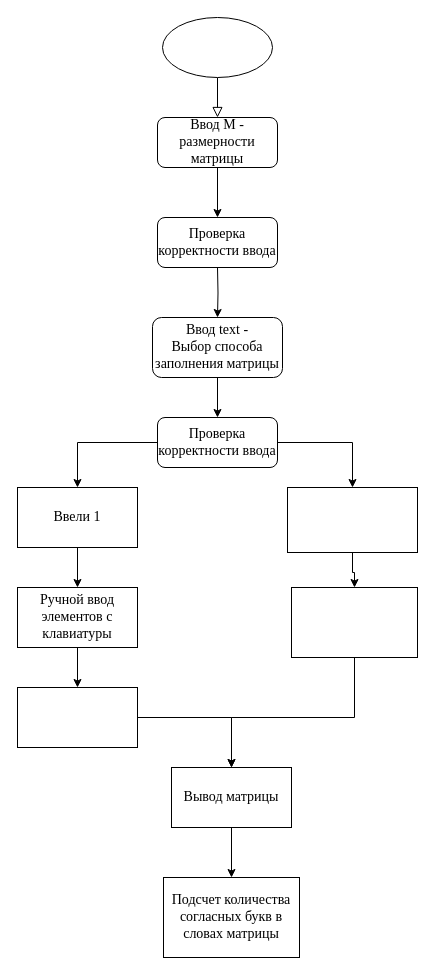
The diagram is 435 pixels wide and 975 high, and some of its shapes have lost their labels. The shapes that lost their labels are listed below. From the top down, each one's box as (x1, y1, x2, y2) in pixels, then its label:
(162, 16, 272, 78): Начало
(286, 486, 418, 552): Ввели 0
(290, 586, 418, 658): Автоматическое заполнение матрицы элементами
(16, 686, 138, 748): Проверка корректности введенных данных
